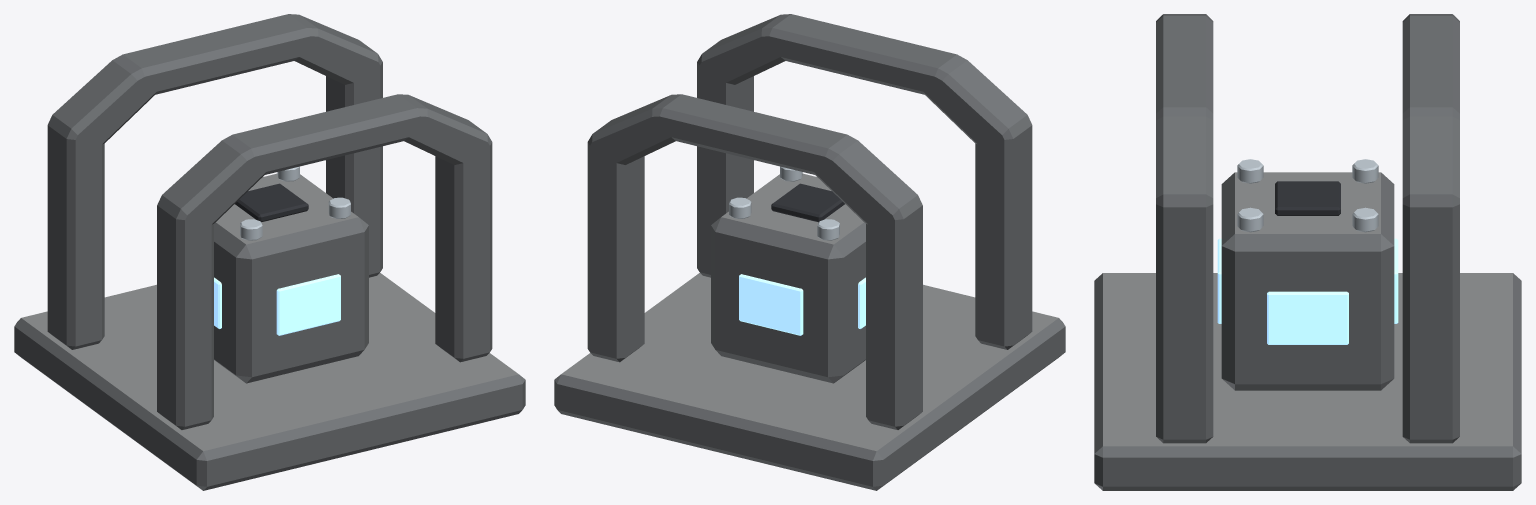
The model's file is R4X_ModuleDurabilityBooster_LOD1.glb.
3 views of the same model, side by side, from view 1: azimuth 30°, elevation 25°; view 2: azimuth 150°, elevation 25°; view 3: azimuth 270°, elevation 25° (orthographic). The views are drawn at different scales.
Visible parts, largest first — view 1: R4X_ModuleDurabilityBooster_LOD1; view 2: R4X_ModuleDurabilityBooster_LOD1; view 3: R4X_ModuleDurabilityBooster_LOD1.
Part boxes in pixels (<box>): R4X_ModuleDurabilityBooster_LOD1: <box>14,14,525,490</box>; R4X_ModuleDurabilityBooster_LOD1: <box>554,14,1065,490</box>; R4X_ModuleDurabilityBooster_LOD1: <box>1094,14,1521,490</box>.
Bounding box in the file's own units: 0.52 × 0.46 × 0.52.
